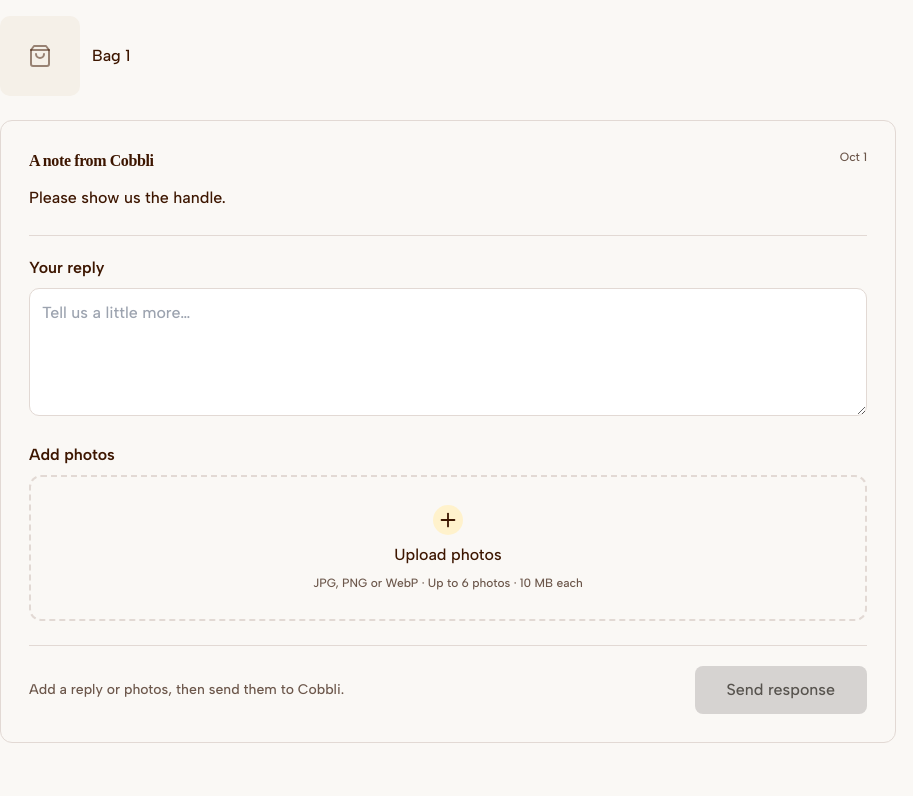
customer response › keeps drafts on failure and retries the same submission identifier
This screenshot has width=913, height=796.
Later steps or results of the test are not shown.
Type "My reply" into the text box labelled "Your reply" at {"x": 448, "y": 352}, box [29,288,867,416]
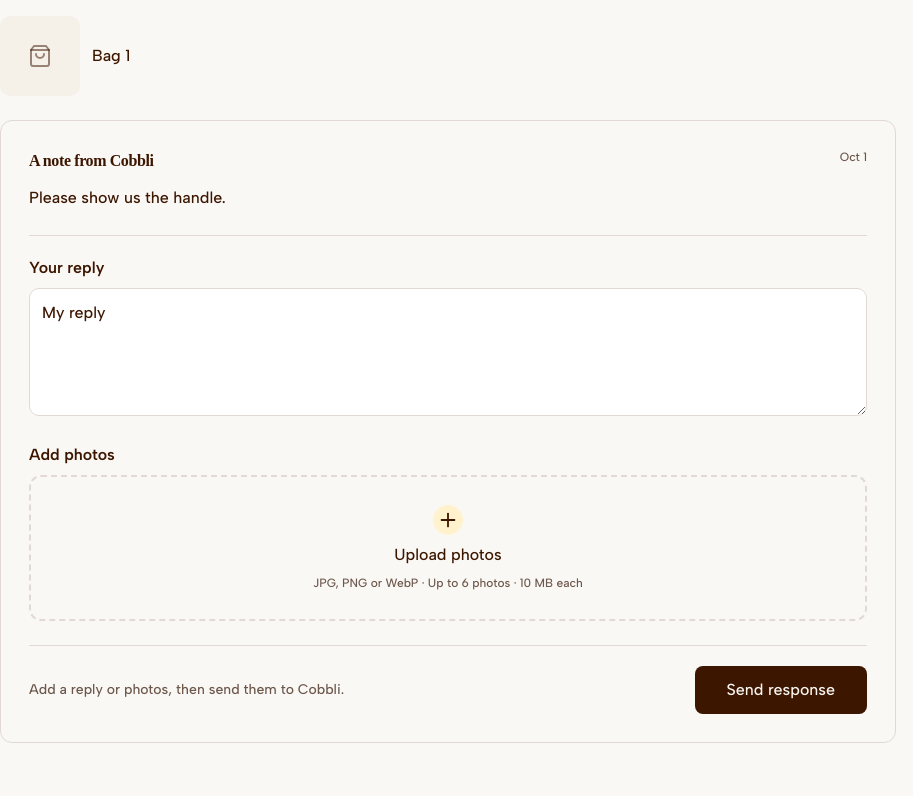
Click the button "Send response" at {"x": 781, "y": 690}, box [694,666,867,714]
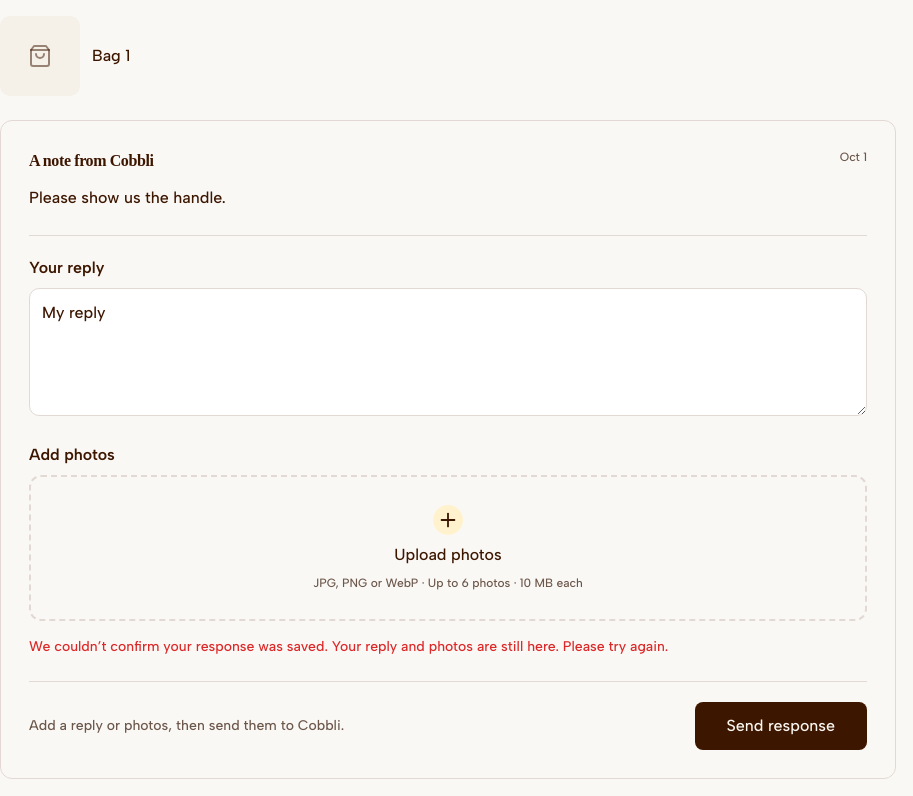
Expected: the message is shown, [29,638,668,655]
